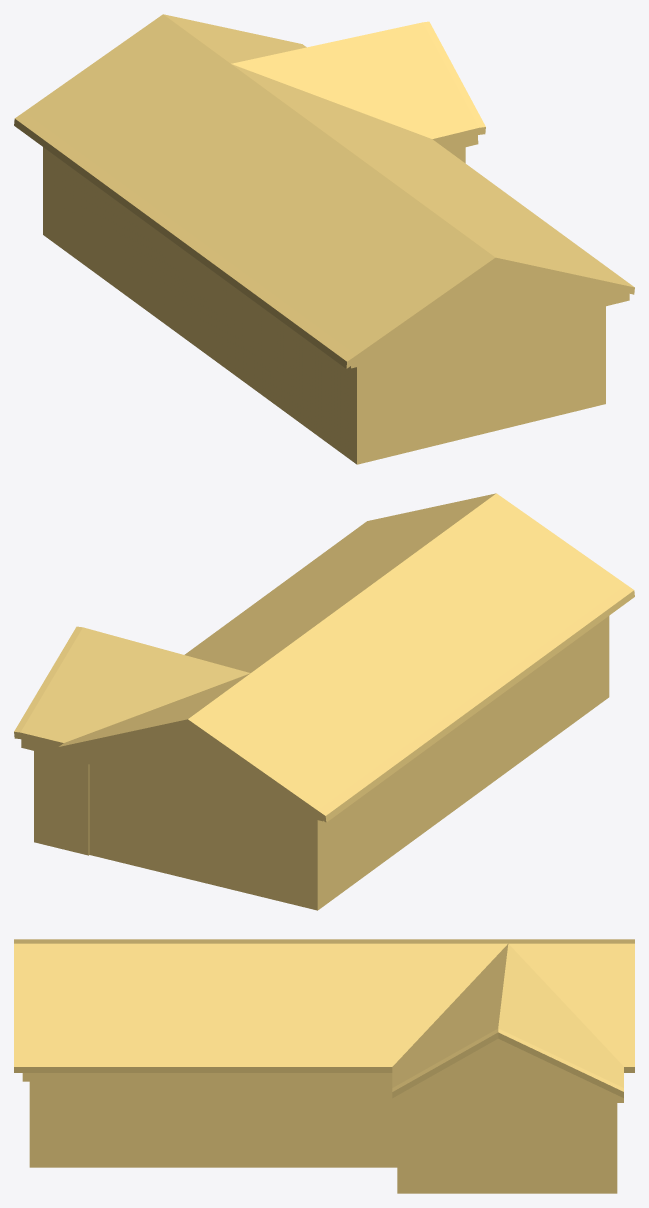
Rendered from ROMCNav.glb.
The picture shows the model from 3 angles, top to bottom: view 1: azimuth 30°, elevation 25°; view 2: azimuth 150°, elevation 25°; view 3: azimuth 270°, elevation 25°; orthographic projection. The views are drawn at different scales.
Visible parts, largest first — view 1: Cube.003; view 2: Cube.003; view 3: Cube.003.
Part boxes in pixels (x1=…): Cube.003: x1=14, y1=14, x2=634, y2=464; Cube.003: x1=14, y1=493, x2=634, y2=910; Cube.003: x1=14, y1=939, x2=634, y2=1193.
Bounding box in the file's own units: 15.66 × 7.97 × 26.36.
